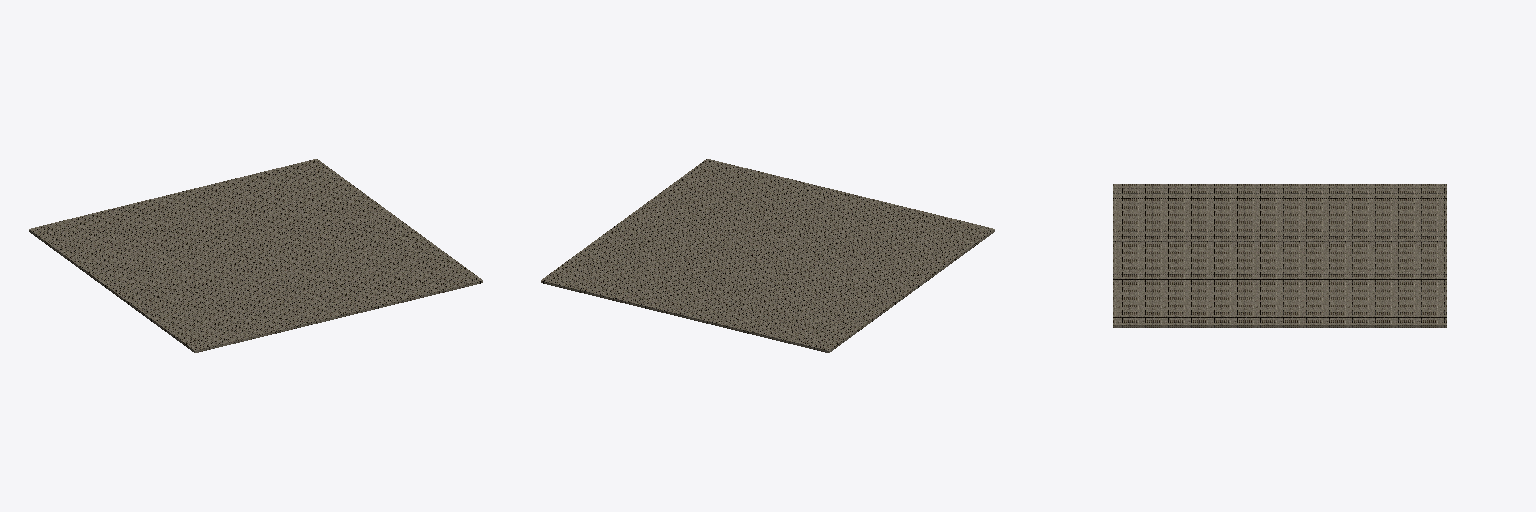
3 renders of one model, left to right at view 1: azimuth 30°, elevation 25°; view 2: azimuth 150°, elevation 25°; view 3: azimuth 270°, elevation 25°, orthographic.
Parts seen in each view (by area): view 1: Cube; view 2: Cube; view 3: Cube.
Boxes of the visible parts, box(x1,y1,x2,y2) form: Cube: box(29, 159, 482, 352); Cube: box(541, 159, 994, 352); Cube: box(1113, 184, 1446, 327).
Bounding box in the file's own units: 159 × 1.31 × 159.
1 materials, 1 textured.